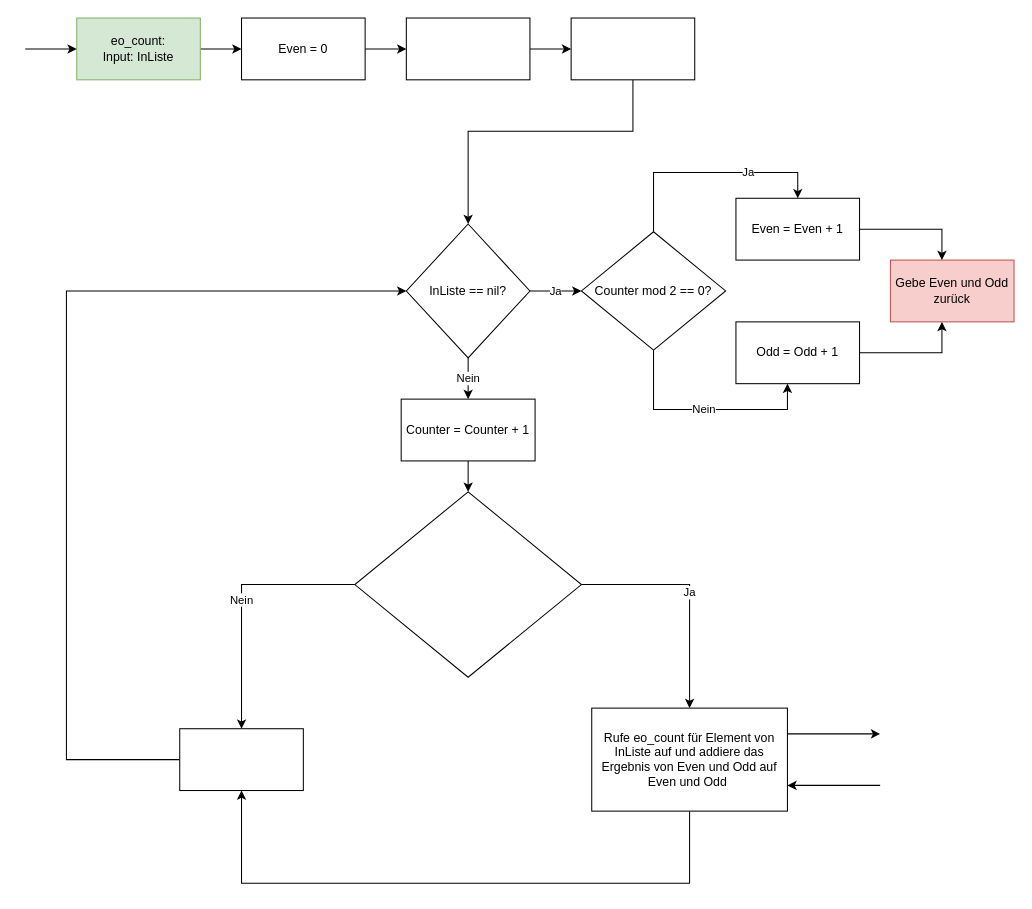
Some shapes in this 1032 by 909 pixel diagram are drawn without their labels. Here are the shapes that lost their labels. From the top down, the centre of each, then its label:
At (x=467, y=48): "Odd = 0".
At (x=632, y=48): "Counter = 0".
At (x=467, y=584): "Element von InListe Ist eine Liste?".
At (x=241, y=759): "InListe = Referenz auf nächstes Listenelement von InListe".
